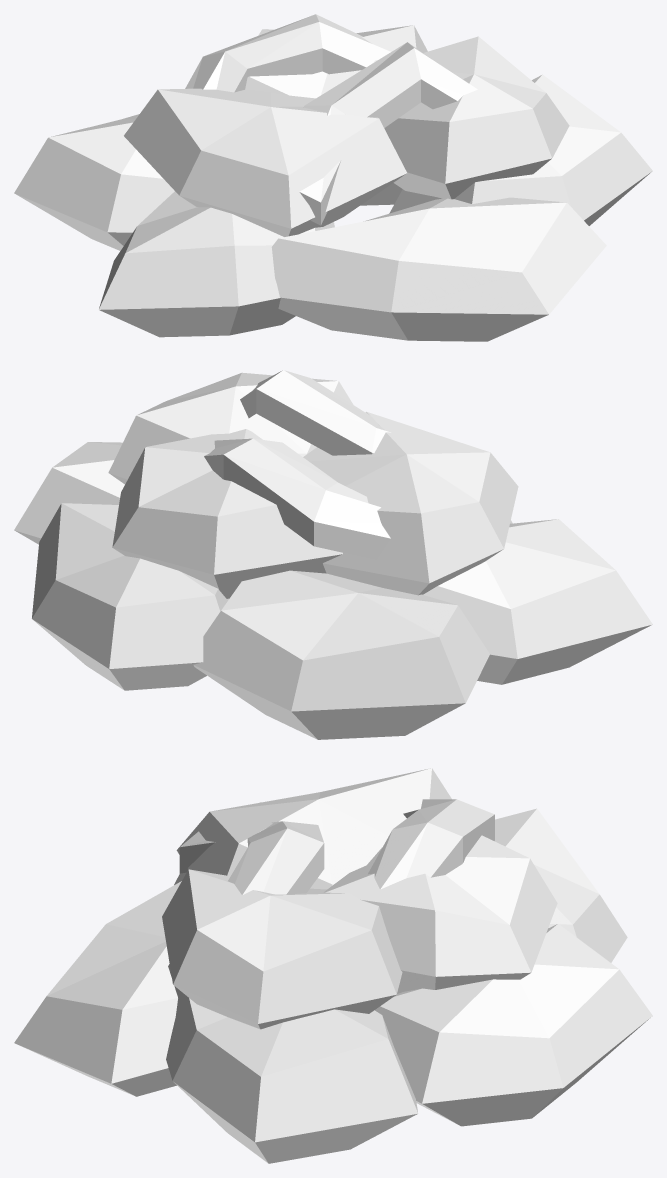
File: ScrambleEgg.fbx
3 views of the same model, one above another, from view 1: azimuth 30°, elevation 25°; view 2: azimuth 150°, elevation 25°; view 3: azimuth 270°, elevation 25° (orthographic). The views are drawn at different scales.
Parts seen in each view (by area): view 1: WCC_Scrambled_Egg; view 2: WCC_Scrambled_Egg; view 3: WCC_Scrambled_Egg.
Part boxes in pixels (x1,y1,x2,y2): WCC_Scrambled_Egg: (14, 14, 652, 341); WCC_Scrambled_Egg: (14, 370, 652, 739); WCC_Scrambled_Egg: (14, 768, 652, 1163).
Size of the model in its own units: 15.05 by 13.2 by 6.16.
